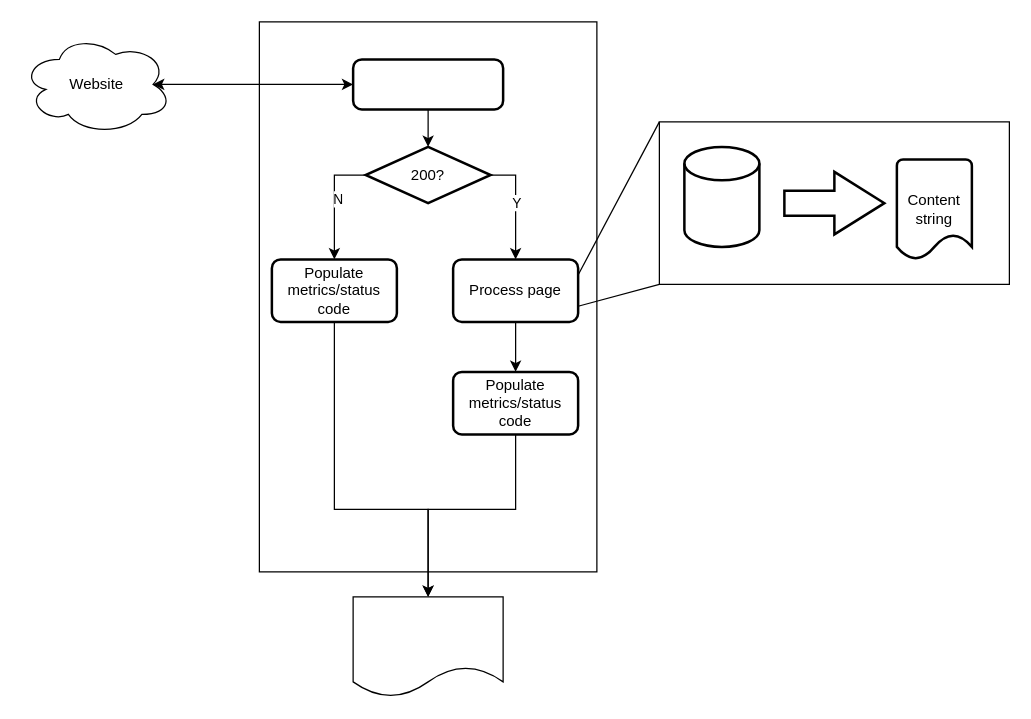
Some shapes in this 1031 by 719 pixel diagram are drawn without their labels. Each missing label, with the centre of its shape:
GET request: the point at 427,84
Page Content: the point at 427,646
Parsed HTML Soup: the point at 721,196
